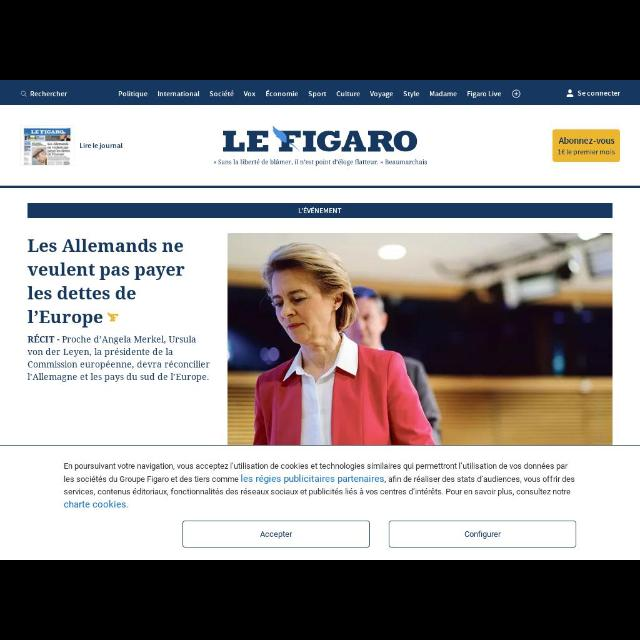icon: (566, 89, 574, 97), (512, 90, 520, 98), (20, 90, 28, 98)
image: (228, 234, 612, 446), (223, 126, 417, 152), (22, 126, 74, 166), (106, 312, 118, 322)
text: (65, 476, 575, 484), (64, 488, 570, 496), (64, 463, 568, 471), (28, 262, 184, 280), (28, 238, 184, 252), (28, 372, 208, 382), (28, 334, 196, 344), (28, 286, 136, 300), (28, 361, 210, 369), (28, 348, 172, 358), (28, 310, 102, 328), (214, 159, 426, 165), (64, 500, 128, 508), (558, 148, 614, 156), (560, 136, 614, 144), (298, 206, 342, 214), (465, 531, 501, 539), (578, 90, 620, 96), (158, 91, 200, 97), (80, 144, 122, 150), (119, 90, 148, 98), (31, 91, 68, 97), (467, 92, 501, 98), (266, 90, 298, 96), (260, 532, 292, 538), (371, 90, 394, 98), (429, 91, 456, 97), (308, 90, 326, 98), (210, 90, 234, 96), (336, 91, 359, 97), (404, 90, 420, 98), (242, 91, 255, 97)
textbutton: (183, 521, 369, 547), (390, 521, 576, 547), (552, 130, 620, 162)
toolbar: (1, 80, 640, 104)
